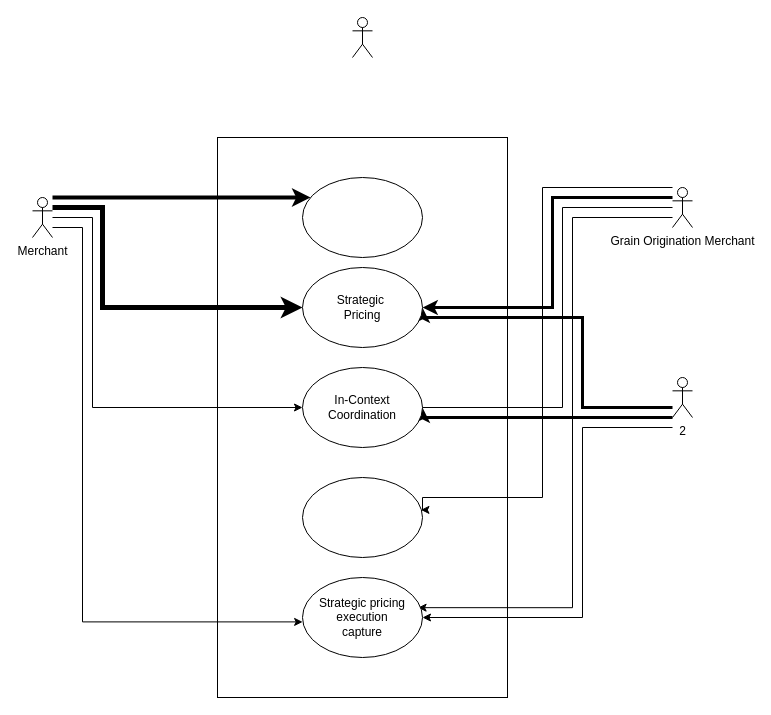
Image size: 771x715. Some labels were removed from this diagram. The shapes that lost their labels are listed below. From the top down, each one's box as (x1, y1, x2, y2) in pixels, then its label:
(352, 16, 372, 58): Hybrid Merchant/Originator
(302, 176, 422, 258): Market Intelligence
(302, 476, 422, 558): In-context Strategic pricing
